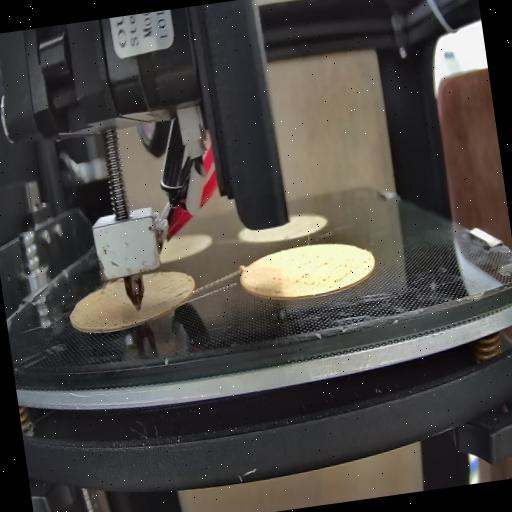under_extrusion: (290, 241, 373, 292), (75, 302, 134, 336), (249, 265, 288, 301), (159, 276, 199, 302)
